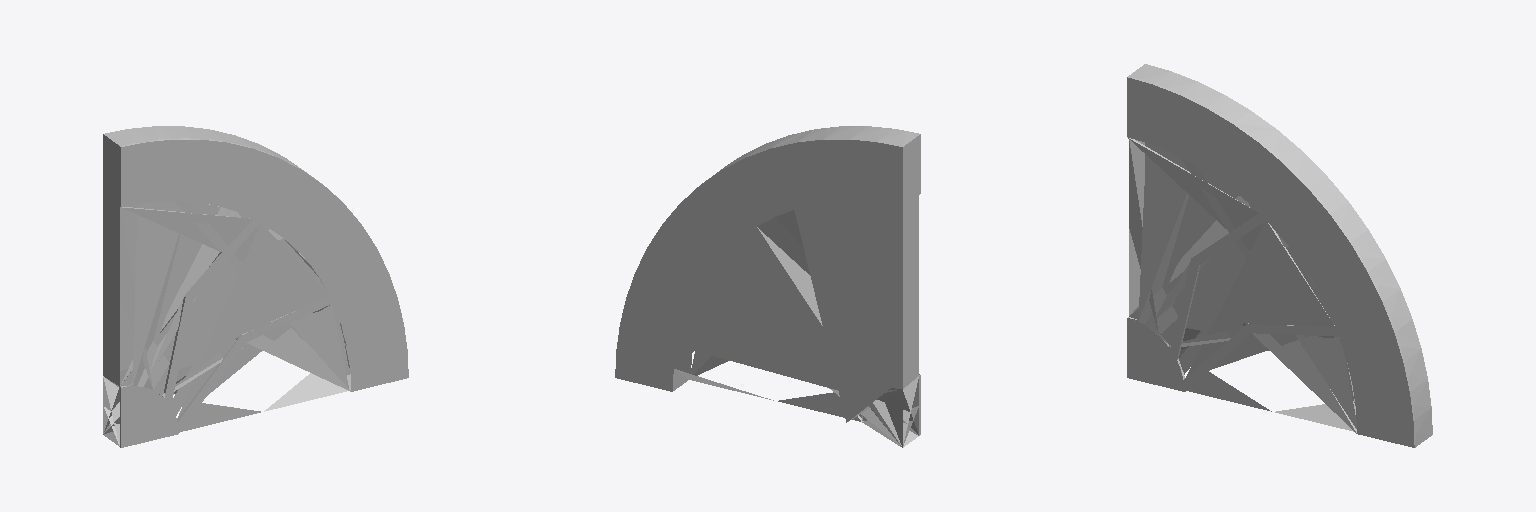
The model's file is ConveyorCorner.obj.
3 renders of one model, left to right at view 1: azimuth 30°, elevation 25°; view 2: azimuth 150°, elevation 25°; view 3: azimuth 330°, elevation 25°, orthographic.
Parts seen in each view (by area): view 1: object_1; view 2: object_1; view 3: object_1.
Boxes of the visible parts, <box> form: object_1: <box>103,126,408,447</box>; object_1: <box>615,126,920,447</box>; object_1: <box>1127,64,1432,447</box>.
Size of the model in its own units: 1 by 1 by 0.11.